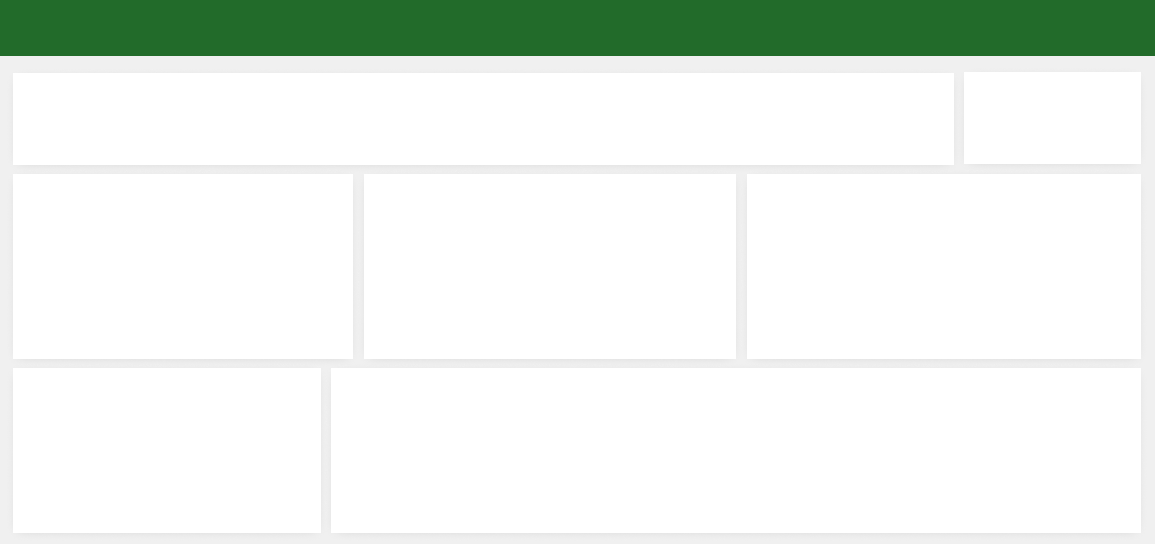

Layout of this report page (visuals, bound fields, positions):
{"tool":"tableau","page":{"name":"HR Analytics Dashboard","canvas":[1000,1000],"units":"permille","ordinal":0},"visuals":[{"type":"image","param":"C:/Users/acer/Downloads/HR.png","box":[6.9,14.7,986.1,970.6]},{"type":"text","box":[91.8,40.4,698.7,95.6]},{"type":"image","param":"C:/Users/acer/Downloads/hr-manager.png","box":[46.8,53.3,53.7,77.2]},{"type":"worksheet","title":"Attrition by Gender","mark":"Bar","rows":["Gender"],"cols":["Calculation_0755107502329856","Calculation_0755107502329856"],"box":[832,165.4,135.1,156.2]},{"type":"worksheet","title":"KPI","mark":"Automatic","box":[32.9,176.5,777.5,150.7]},{"type":"worksheet","title":"No of Employee by Age Group","mark":"Automatic","rows":["Employee Count"],"cols":["Age (bin)"],"box":[325.5,330.9,307.4,301.5]},{"type":"worksheet","title":"Job Satisfaction Rating","mark":"Square","rows":["Job Role"],"cols":["Job Satisfaction"],"box":[641.6,330.9,333.3,318]},{"type":"worksheet","title":"Department wise Attrition","mark":"Pie","box":[33.8,338.2,282.2,332.7]},{"type":"worksheet","title":"Education Field wise Attrition","mark":"Automatic","rows":["Education Field"],"cols":["Calculation_0755107502329856"],"box":[33.8,663.6,252.8,264.7]},{"type":"worksheet","title":"Attrition Rate by Gender for different Age group","mark":"Pie","rows":["Calculation_0576437149380609","Calculation_0576437149380609"],"cols":["CF_age band"],"box":[296.1,663.6,668.4,277.6]}]}

Visuals, with their boxes on the dashboard's canvas, which has no fixed pixel size, in thousandths of its width and height (x1, y1, x2, y2). These are canvas units, not pixel positions in the 1155x544 screenshot, which may show the page scaled, cropped or inside an application window:
image: (7, 15, 993, 985)
text: (92, 40, 790, 136)
image: (47, 53, 100, 130)
"Attrition by Gender" worksheet (Bar marks): (832, 165, 967, 322)
"KPI" worksheet: (33, 176, 810, 327)
"No of Employee by Age Group" worksheet: (326, 331, 633, 632)
"Job Satisfaction Rating" worksheet (Square marks): (642, 331, 975, 649)
"Department wise Attrition" worksheet (Pie marks): (34, 338, 316, 671)
"Education Field wise Attrition" worksheet: (34, 664, 287, 928)
"Attrition Rate by Gender for different Age group" worksheet (Pie marks): (296, 664, 964, 941)
